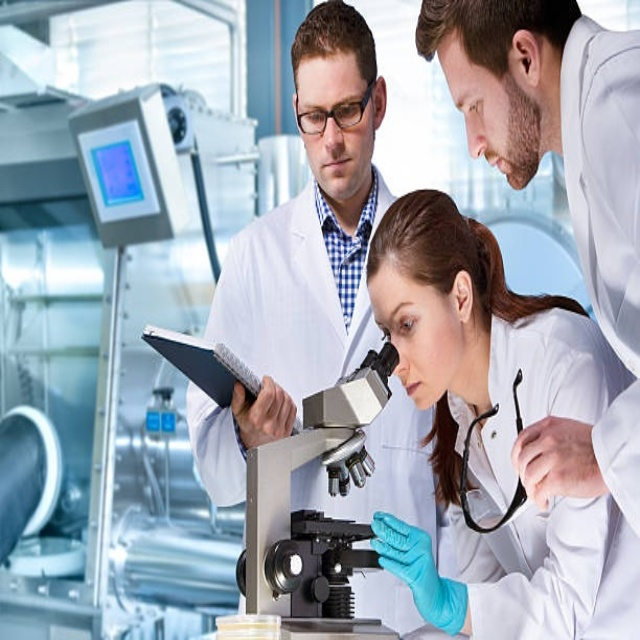Gafas: (295, 80, 376, 138)
Guantes: (371, 511, 468, 635)
Sin_gafas: (381, 287, 424, 342), (457, 67, 492, 125)
Sin_guantes: (512, 414, 602, 508), (232, 374, 299, 449)
Sin_mascara: (481, 144, 525, 190), (316, 147, 359, 185)
